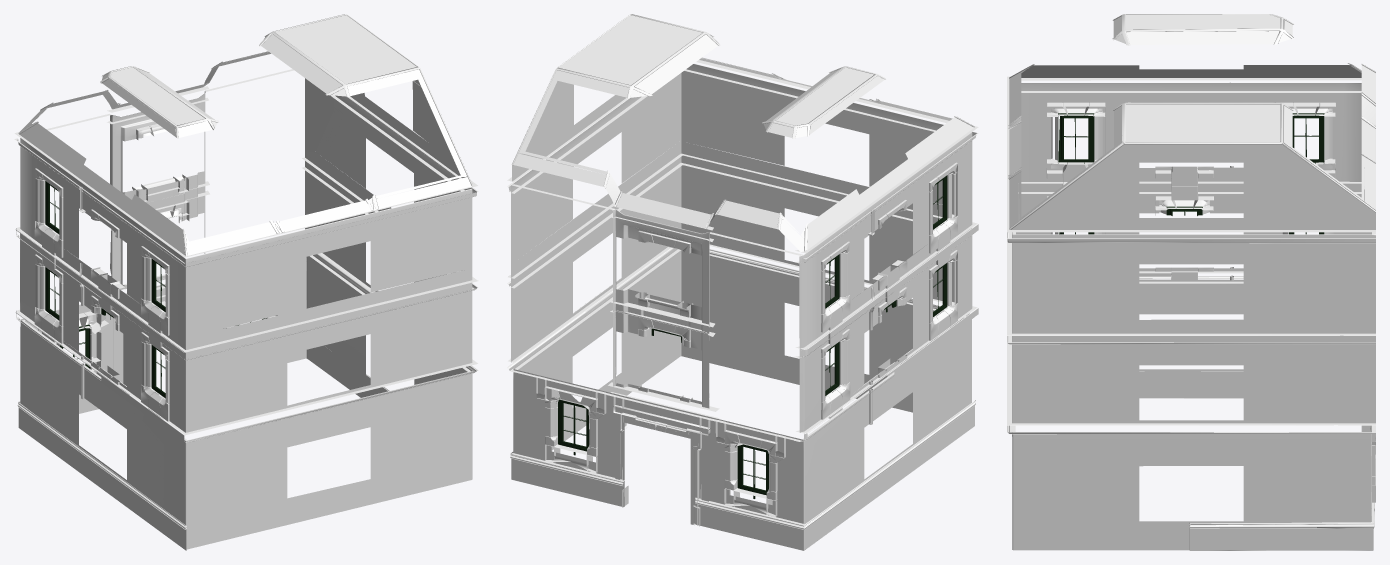
File: B_BuildingCourtyard_LOD1.obj
3 renders of one model, left to right at view 1: azimuth 30°, elevation 25°; view 2: azimuth 150°, elevation 25°; view 3: azimuth 270°, elevation 25°, orthographic. The views are drawn at different scales.
Visible parts, largest first — view 1: B_BuildingCourtyard_LOD1_m4, B_BuildingCourtyard_LOD1_m5, B_BuildingCourtyard_LOD1_m0, B_BuildingCourtyard_LOD1_m2, B_BuildingCourtyard_LOD1_m3, B_BuildingCourtyard_LOD1_m1; view 2: B_BuildingCourtyard_LOD1_m4, B_BuildingCourtyard_LOD1_m0, B_BuildingCourtyard_LOD1_m5, B_BuildingCourtyard_LOD1_m2, B_BuildingCourtyard_LOD1_m1, B_BuildingCourtyard_LOD1_m3; view 3: B_BuildingCourtyard_LOD1_m4, B_BuildingCourtyard_LOD1_m5, B_BuildingCourtyard_LOD1_m2, B_BuildingCourtyard_LOD1_m0, B_BuildingCourtyard_LOD1_m3, B_BuildingCourtyard_LOD1_m1.
Part boxes in pixels (left/top/right/bottom): B_BuildingCourtyard_LOD1_m4: left=20, top=161, right=472, bottom=549; B_BuildingCourtyard_LOD1_m5: left=20, top=69, right=472, bottom=349; B_BuildingCourtyard_LOD1_m0: left=14, top=86, right=478, bottom=550; B_BuildingCourtyard_LOD1_m2: left=20, top=14, right=472, bottom=256; B_BuildingCourtyard_LOD1_m3: left=18, top=14, right=472, bottom=399; B_BuildingCourtyard_LOD1_m1: left=45, top=181, right=266, bottom=398; B_BuildingCourtyard_LOD1_m4: left=511, top=155, right=972, bottom=523; B_BuildingCourtyard_LOD1_m0: left=507, top=60, right=978, bottom=550; B_BuildingCourtyard_LOD1_m5: left=511, top=64, right=972, bottom=350; B_BuildingCourtyard_LOD1_m2: left=512, top=14, right=974, bottom=251; B_BuildingCourtyard_LOD1_m1: left=558, top=175, right=947, bottom=498; B_BuildingCourtyard_LOD1_m3: left=511, top=14, right=974, bottom=424; B_BuildingCourtyard_LOD1_m4: left=1012, top=183, right=1375, bottom=550; B_BuildingCourtyard_LOD1_m5: left=1012, top=83, right=1375, bottom=335; B_BuildingCourtyard_LOD1_m2: left=1009, top=14, right=1375, bottom=229; B_BuildingCourtyard_LOD1_m0: left=1007, top=76, right=1375, bottom=550; B_BuildingCourtyard_LOD1_m3: left=1008, top=14, right=1375, bottom=280; B_BuildingCourtyard_LOD1_m1: left=1058, top=113, right=1324, bottom=234.
Bounding box in the file's own units: 10.6 × 12.91 × 10.6.
